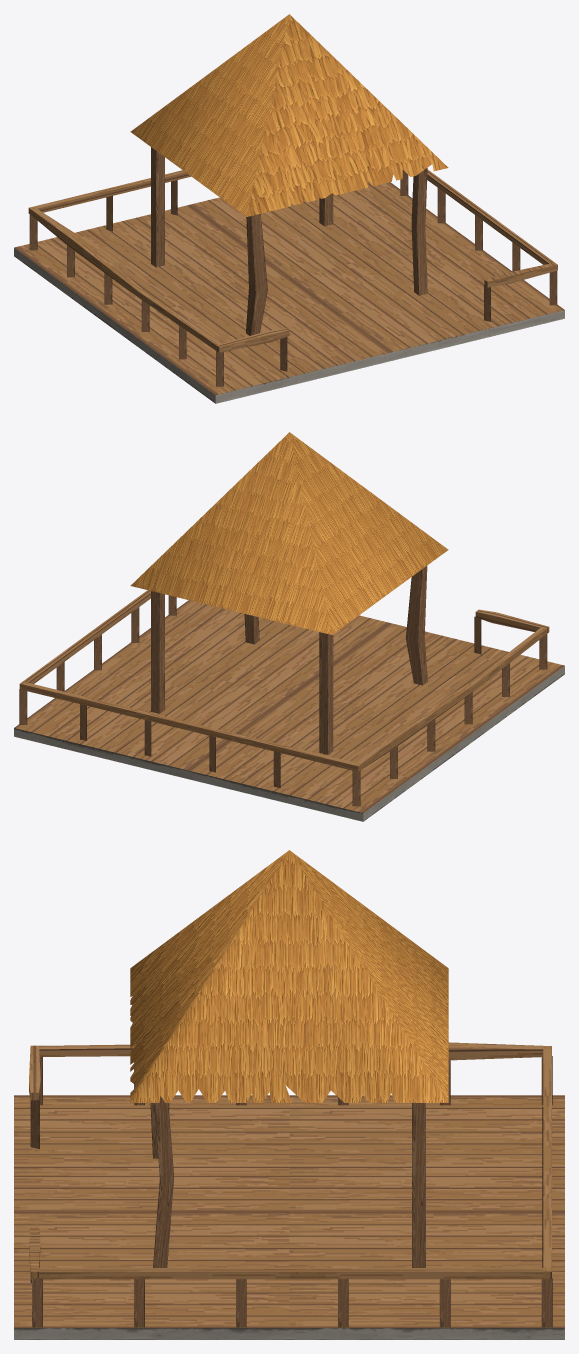
The picture shows the model from 3 angles, top to bottom: view 1: azimuth 30°, elevation 25°; view 2: azimuth 150°, elevation 25°; view 3: azimuth 270°, elevation 25°; orthographic projection. The views are drawn at different scales.
Visible parts, largest first — view 1: defaultMaterial.032; view 2: defaultMaterial.032; view 3: defaultMaterial.032.
Part boxes in pixels (bbox=[...]): defaultMaterial.032: bbox=[14, 14, 564, 403]; defaultMaterial.032: bbox=[14, 432, 564, 821]; defaultMaterial.032: bbox=[14, 850, 564, 1339].
Size of the model in its own units: 493 by 369 by 493.
Materials: 1 (1 with a texture image).
